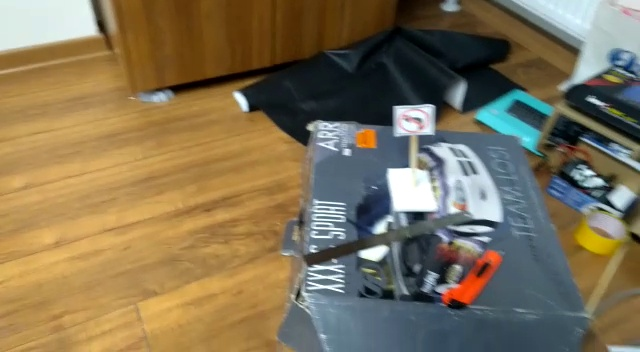sola_donulmez: (398, 105, 435, 136)
